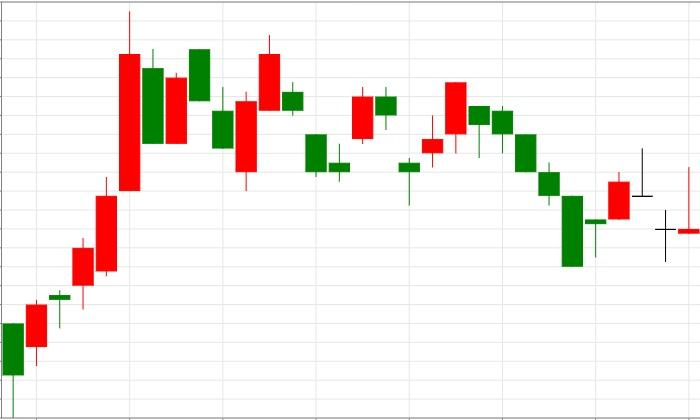three_black_crows_fall: (399, 81, 560, 206)
